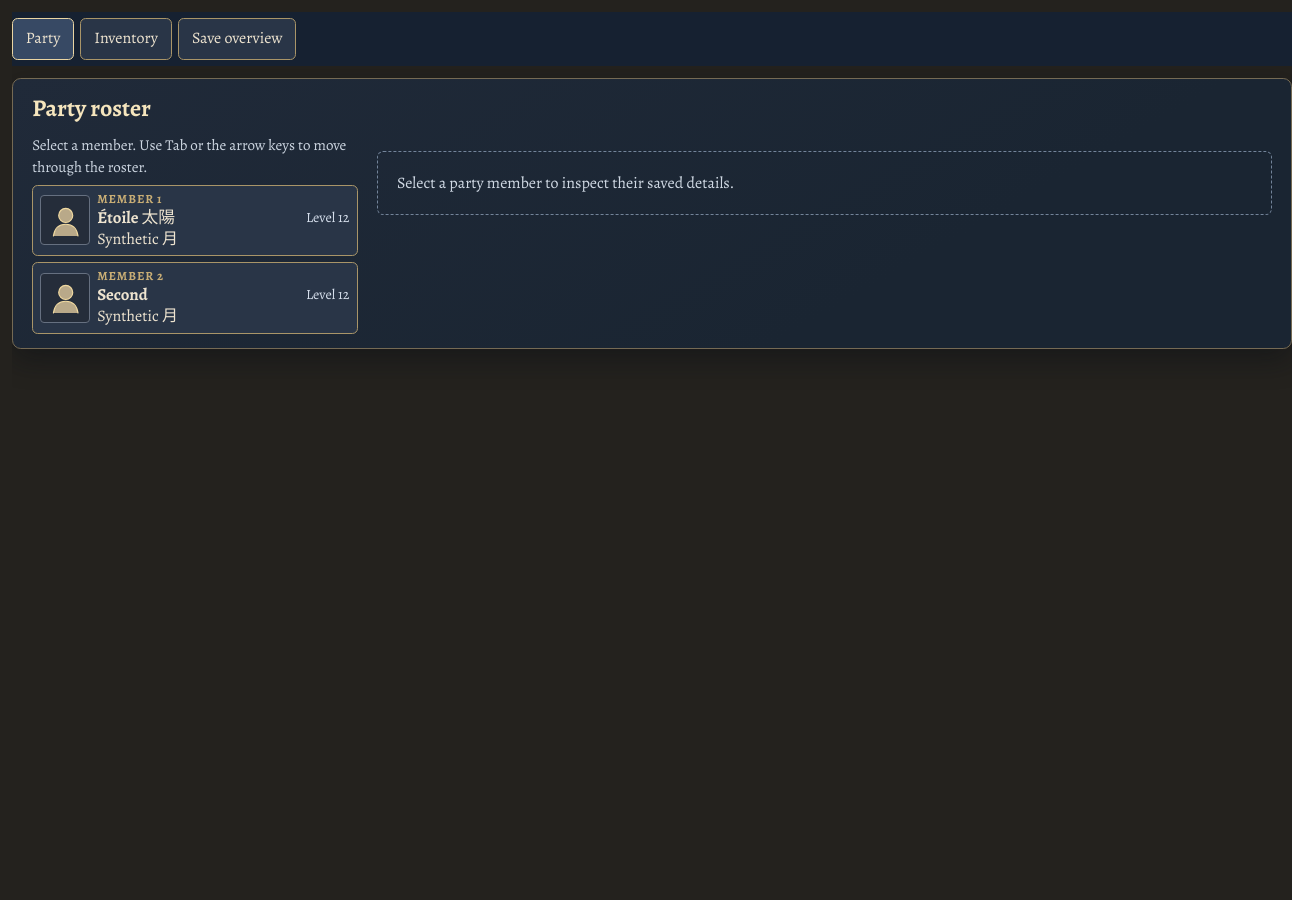
Test: selected unit detail tabs › stored status belongs to the selected member and preserves zero and unknown
The image size is (1292, 900).
Click the button "Member 1 Étoile 太陽 Synthetic 月 Level 12". click: point(65, 220)
box: x1=32 y1=185 x2=358 y2=256
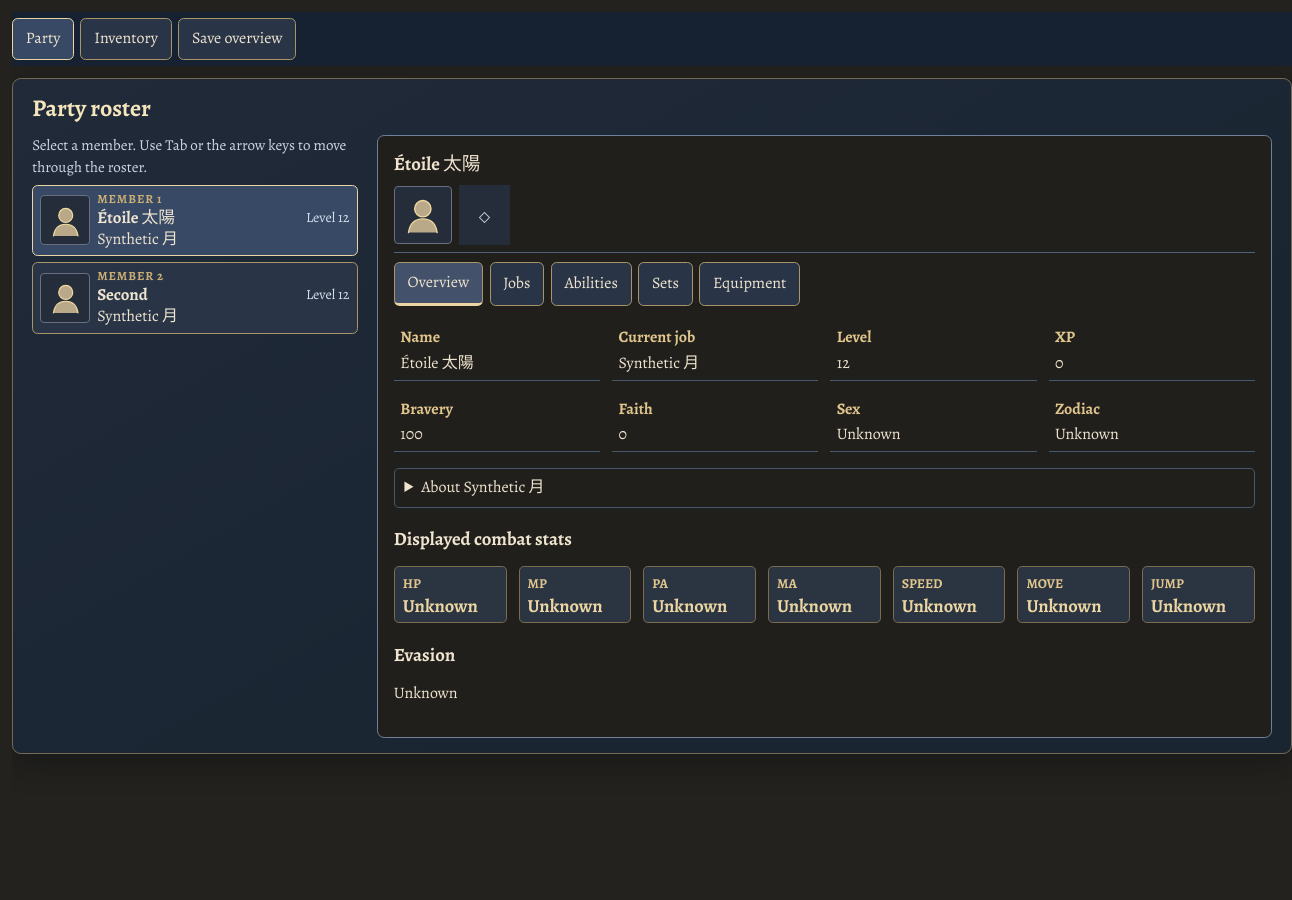
Click the button "Member 2 Second Synthetic 月 Level 12". click: point(65, 298)
box: x1=32 y1=262 x2=358 y2=334
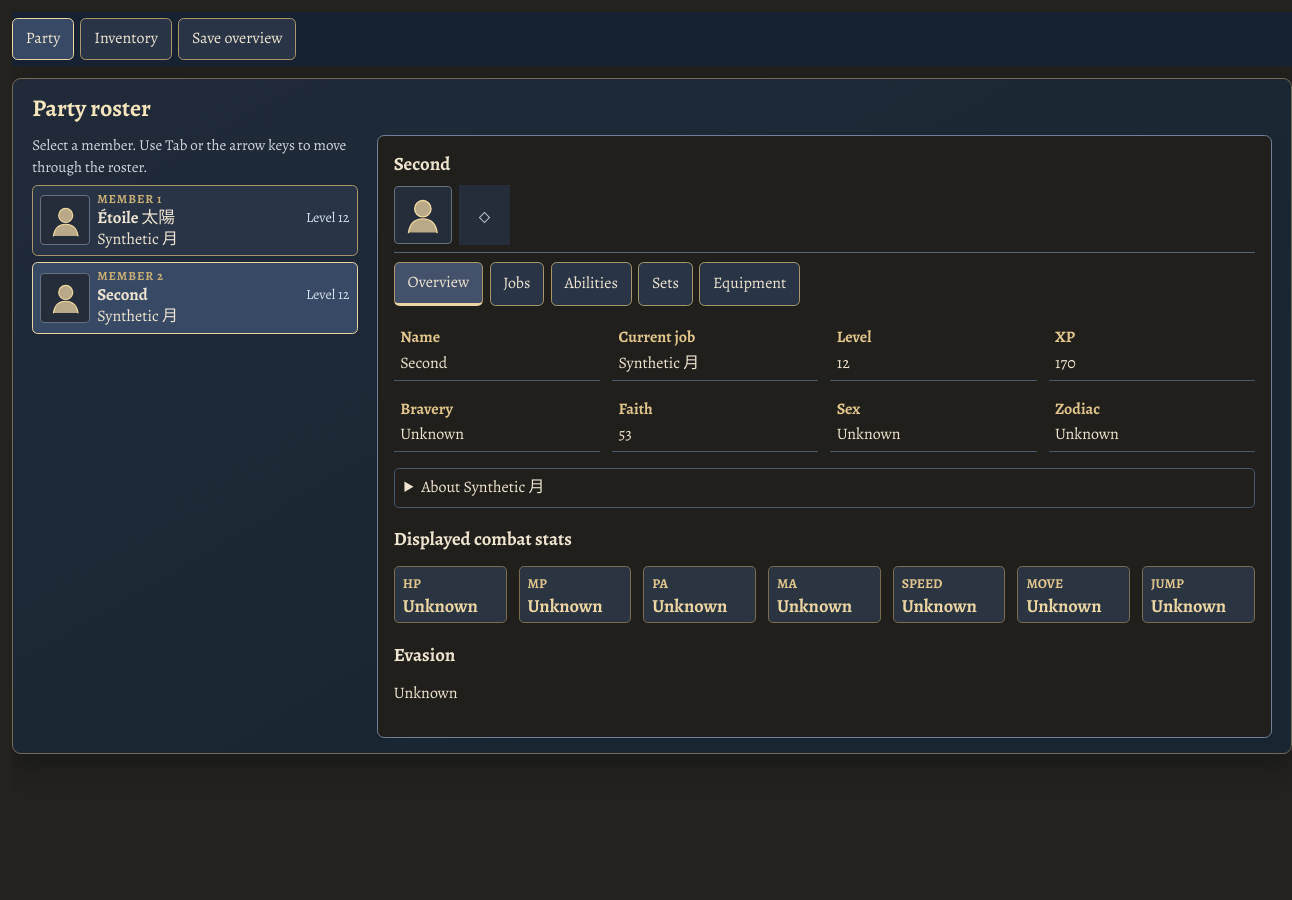
Expected: the text "Unknown" below "Bravery" is shown, x1=400 y1=423 x2=464 y2=445
